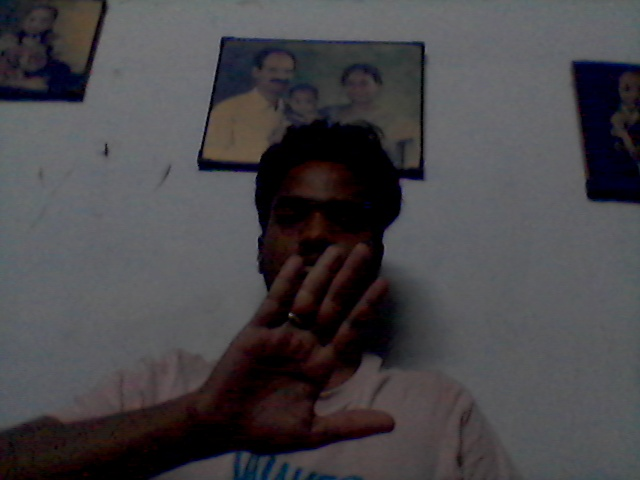Hi: (195, 240, 410, 456)
